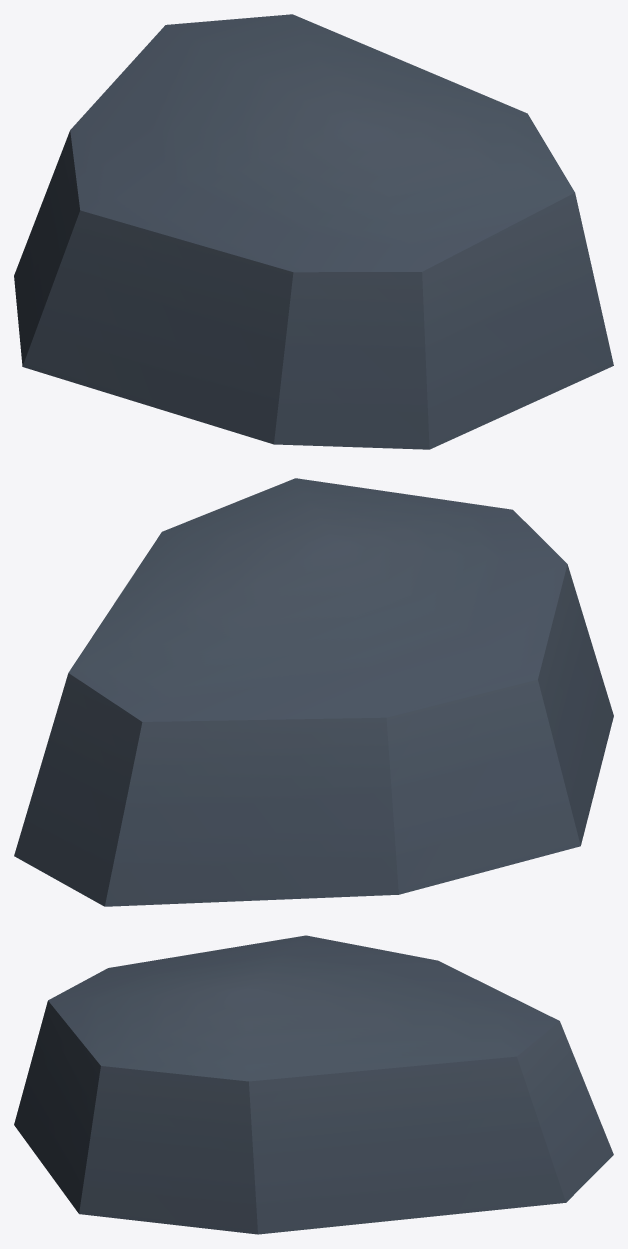
File: Rock_B_2.fbx
3 renders of one model, top to bottom at view 1: azimuth 30°, elevation 25°; view 2: azimuth 150°, elevation 25°; view 3: azimuth 270°, elevation 25°, orthographic. The views are drawn at different scales.
Visible parts, largest first — view 1: Rock_B_2; view 2: Rock_B_2; view 3: Rock_B_2.
Boxes of the visible parts, x1,y1,x2,y2 form: Rock_B_2: (14, 14, 613, 449); Rock_B_2: (14, 478, 613, 906); Rock_B_2: (14, 935, 613, 1234).
Size of the model in its own units: 58.6 by 22.34 by 75.31.
